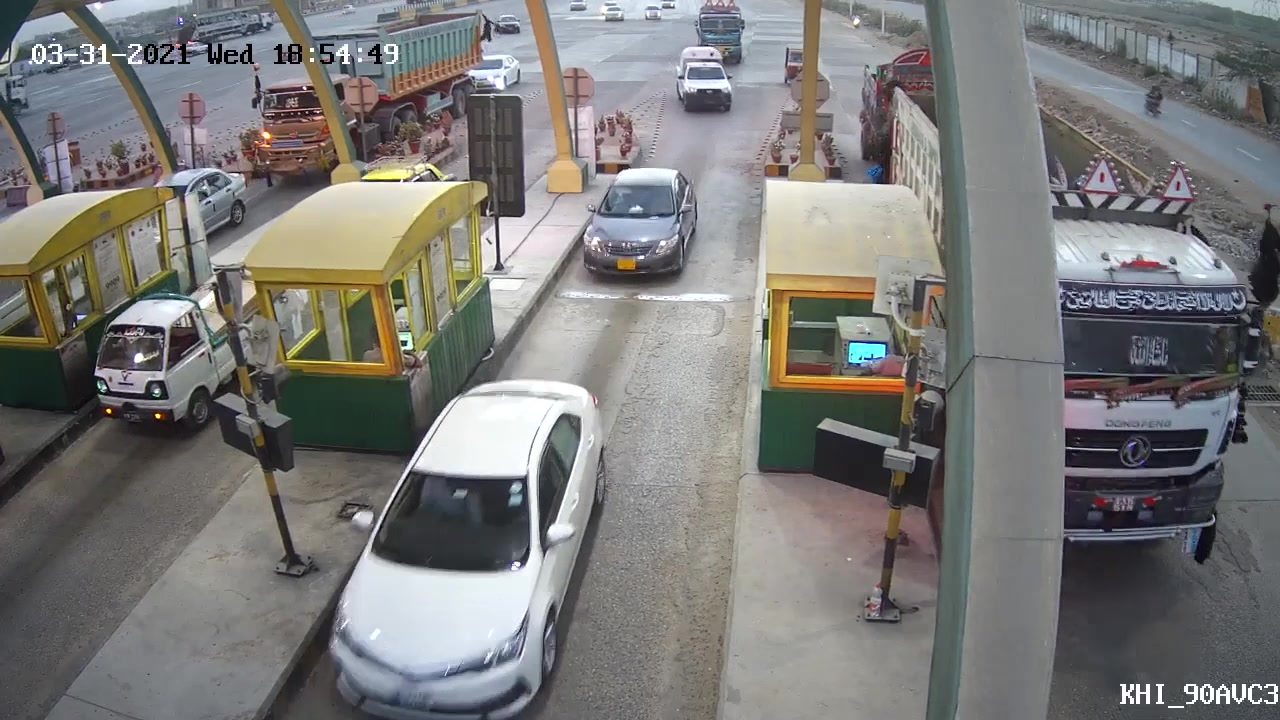F1: (552, 148, 715, 282)
